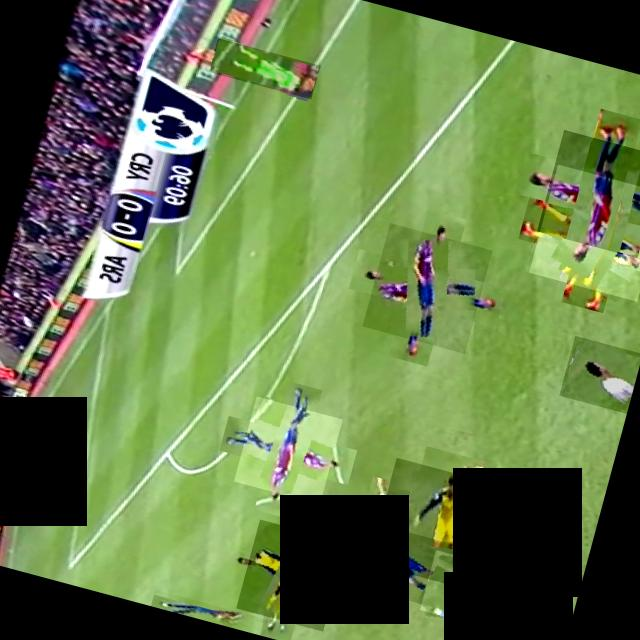ball: (489, 610, 538, 640), (489, 619, 535, 640)
goalkeeper: (208, 38, 318, 98)
referee: (557, 335, 640, 413)
soccer-player: (367, 457, 502, 591), (361, 222, 491, 354), (316, 512, 474, 613), (528, 164, 640, 301), (535, 129, 640, 257), (418, 549, 557, 640), (234, 519, 346, 631), (232, 396, 342, 504), (150, 589, 266, 636)
